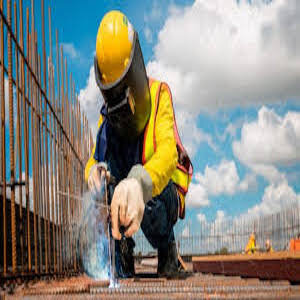heat: (89, 184, 119, 292)
safety: (94, 10, 142, 92)
vest: (100, 74, 191, 217)
